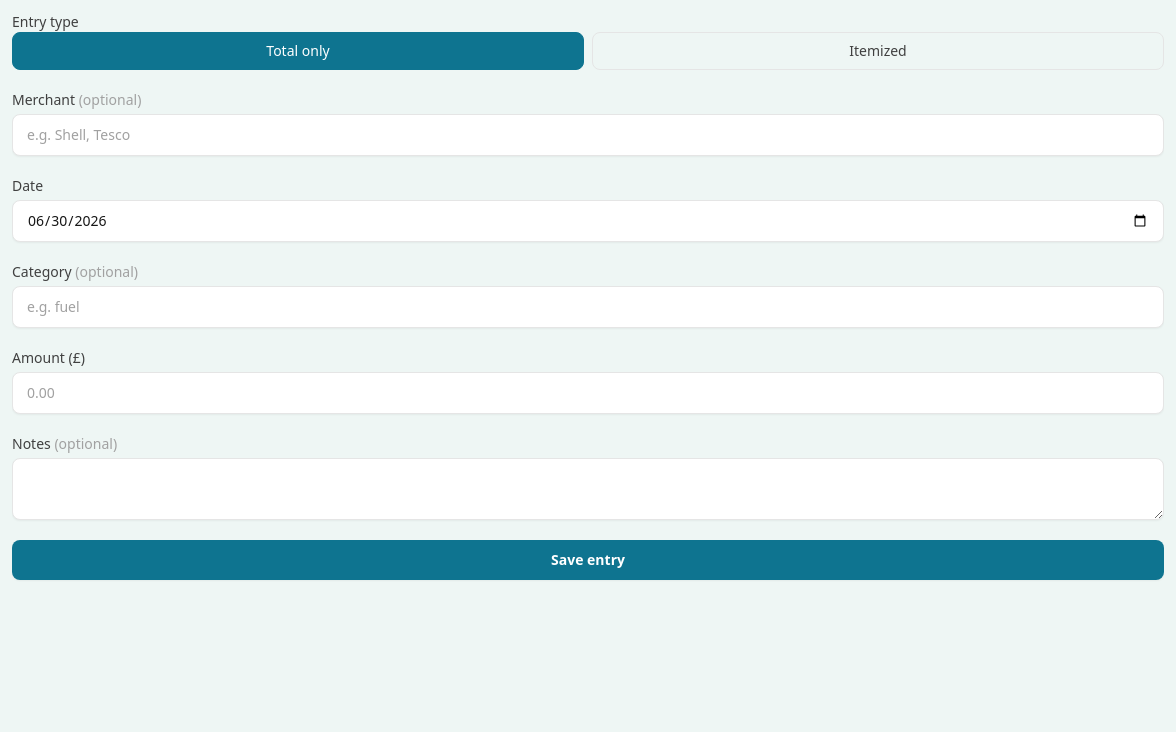
Test case: ManualEntryForm › submits a non-itemized entry and shows the success message
The width and height of the screenshot is (1176, 732).
Type "12.50" into the number field labelled "Amount (£)" at (588, 393), box [12, 372, 1164, 414]
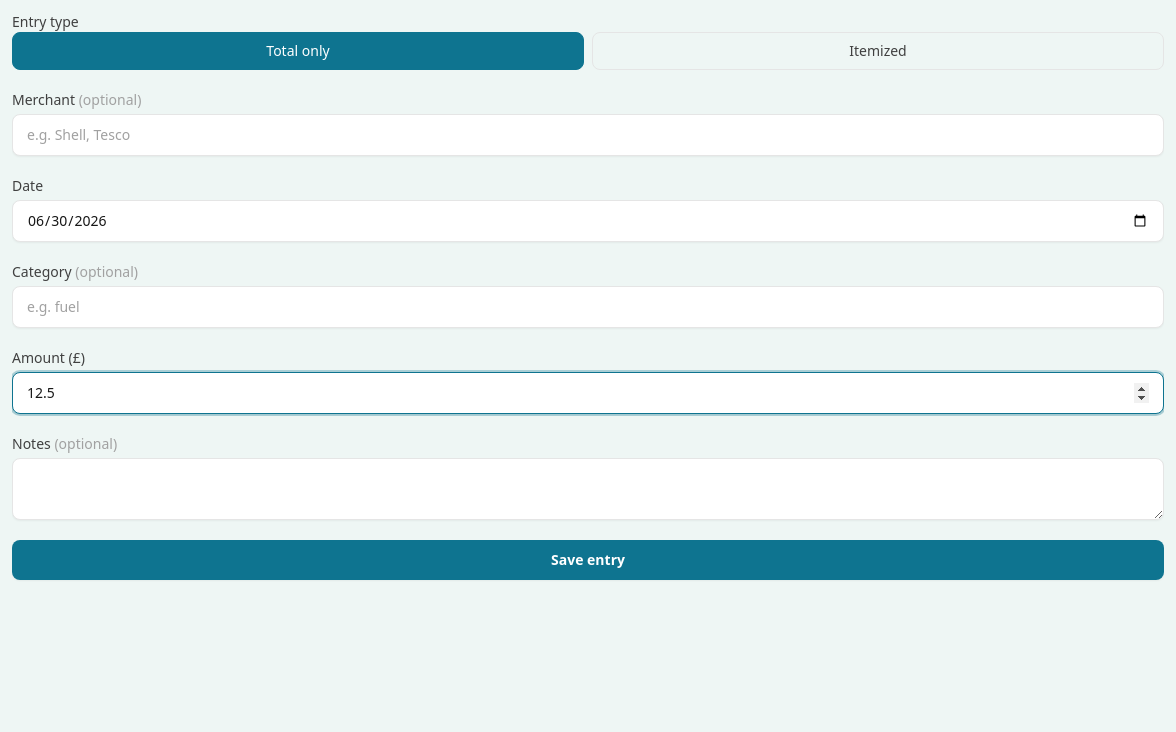
Click the button "Save entry" at (588, 560), box [12, 540, 1164, 580]
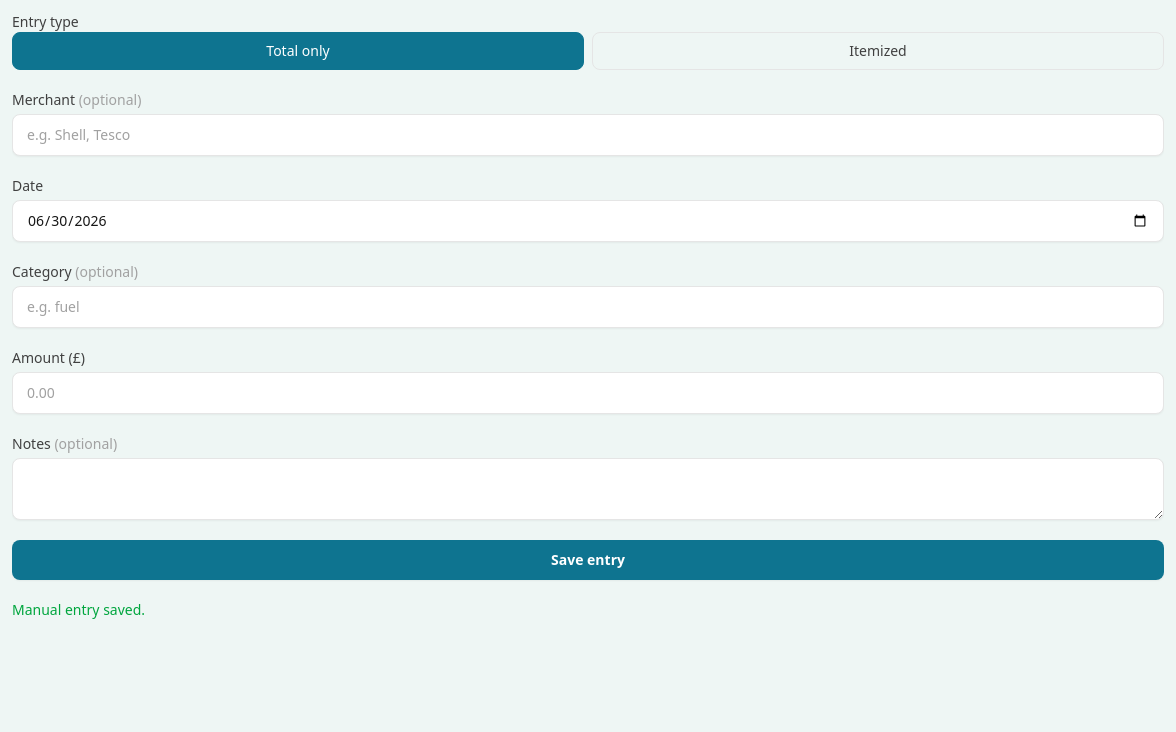
expect the text "Manual entry saved." is shown: met, box [12, 600, 145, 619]
